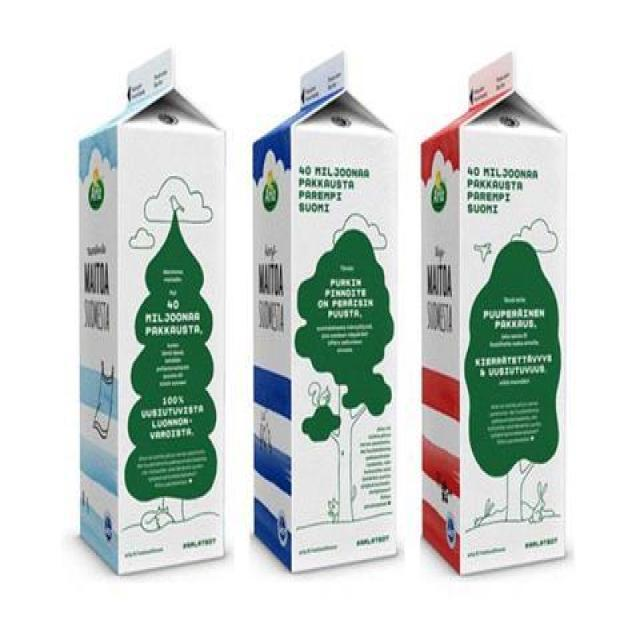Carton: (62, 27, 238, 598), (244, 47, 415, 589), (413, 44, 572, 584)
